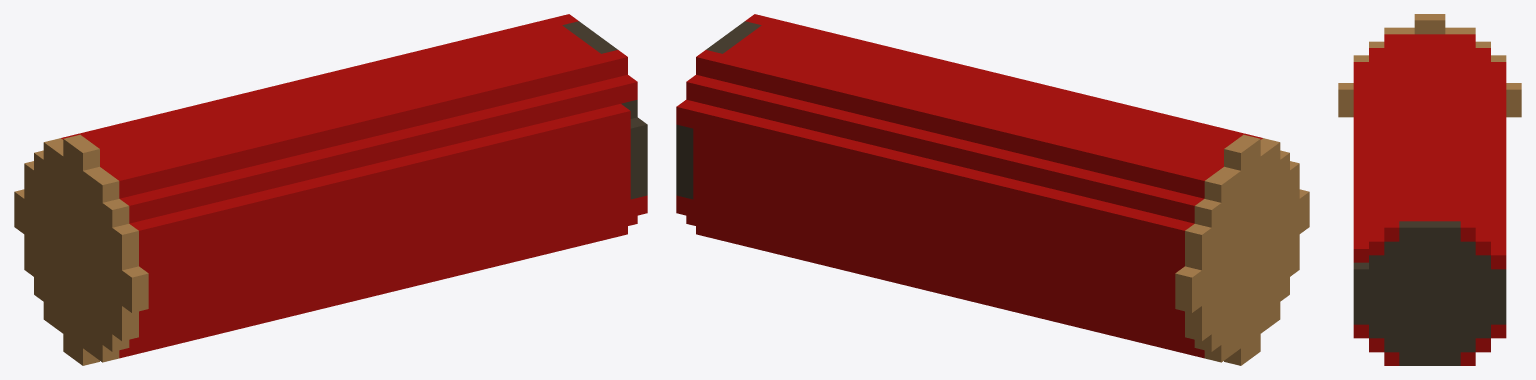
File: round_12_h_gauge_h_00_h_buck.glb
3 views of the same model, side by side, from view 1: azimuth 30°, elevation 25°; view 2: azimuth 150°, elevation 25°; view 3: azimuth 270°, elevation 25° (orthographic). The views are drawn at different scales.
Visible parts, largest first — view 1: cartridge:cartridge-model; view 2: cartridge:cartridge-model; view 3: cartridge:cartridge-model.
Part boxes in pixels (x1,y1,x2,y2): cartridge:cartridge-model: (14,14,647,365); cartridge:cartridge-model: (676,14,1309,365); cartridge:cartridge-model: (1338,14,1521,365).
Size of the model in its own units: 0.062 by 0.024 by 0.024.
